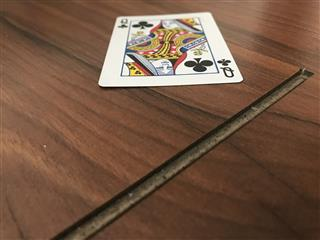QueenOfClubs: (96, 10, 243, 87)
